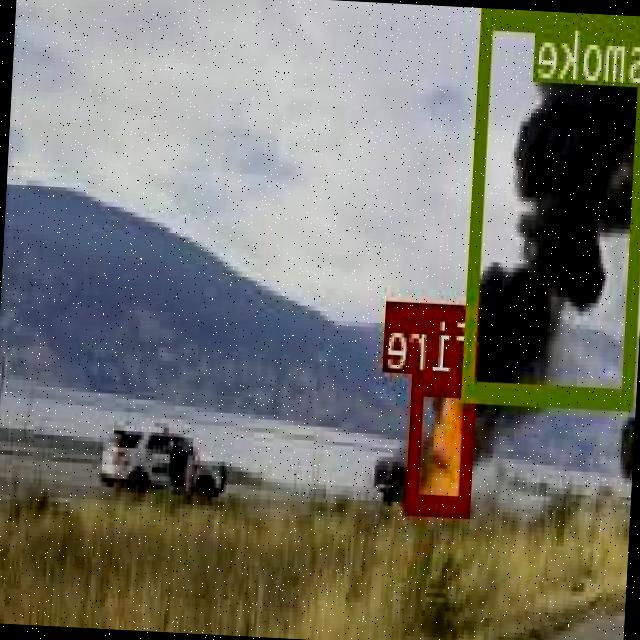fire: (408, 374, 477, 514)
smoke: (465, 8, 640, 407)
